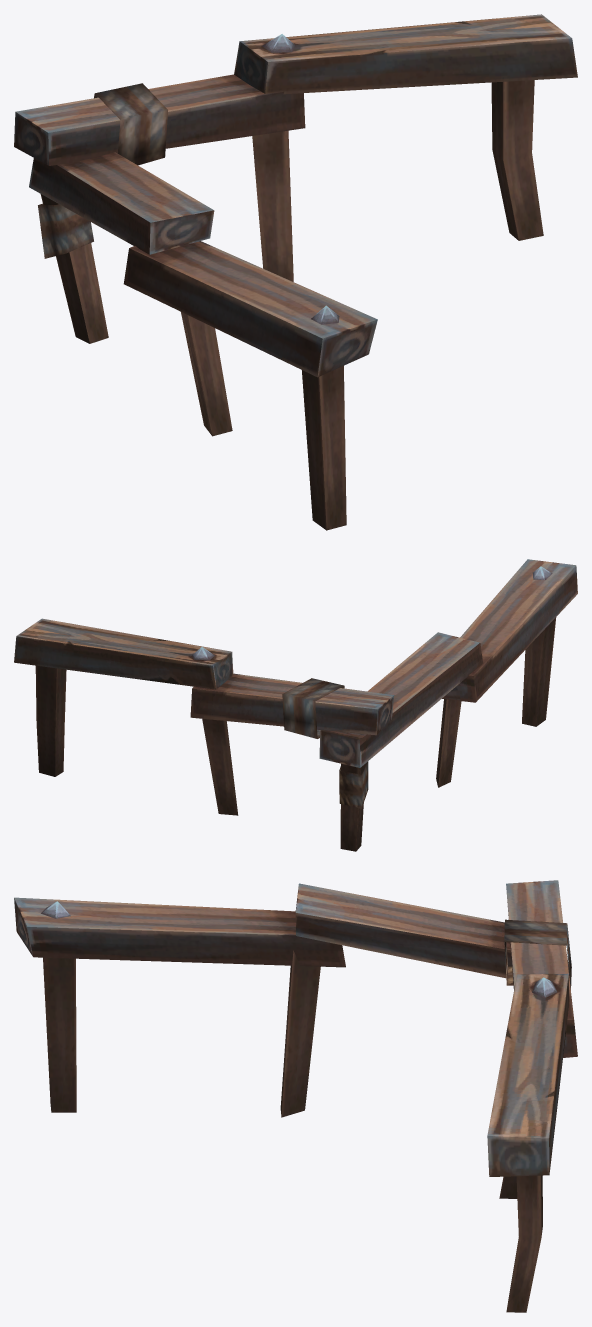
File: mine_railing01.fbx
3 renders of one model, top to bottom at view 1: azimuth 30°, elevation 25°; view 2: azimuth 150°, elevation 25°; view 3: azimuth 270°, elevation 25°, orthographic. The views are drawn at different scales.
Parts seen in each view (by area): view 1: 13_-_Default; view 2: 13_-_Default; view 3: 13_-_Default.
Part boxes in pixels (box(x1,y1,x2,y2)): 13_-_Default: box(14, 14, 577, 530); 13_-_Default: box(14, 559, 577, 851); 13_-_Default: box(14, 880, 577, 1312).
Size of the model in its own units: 4.29 by 1.87 by 4.21.
